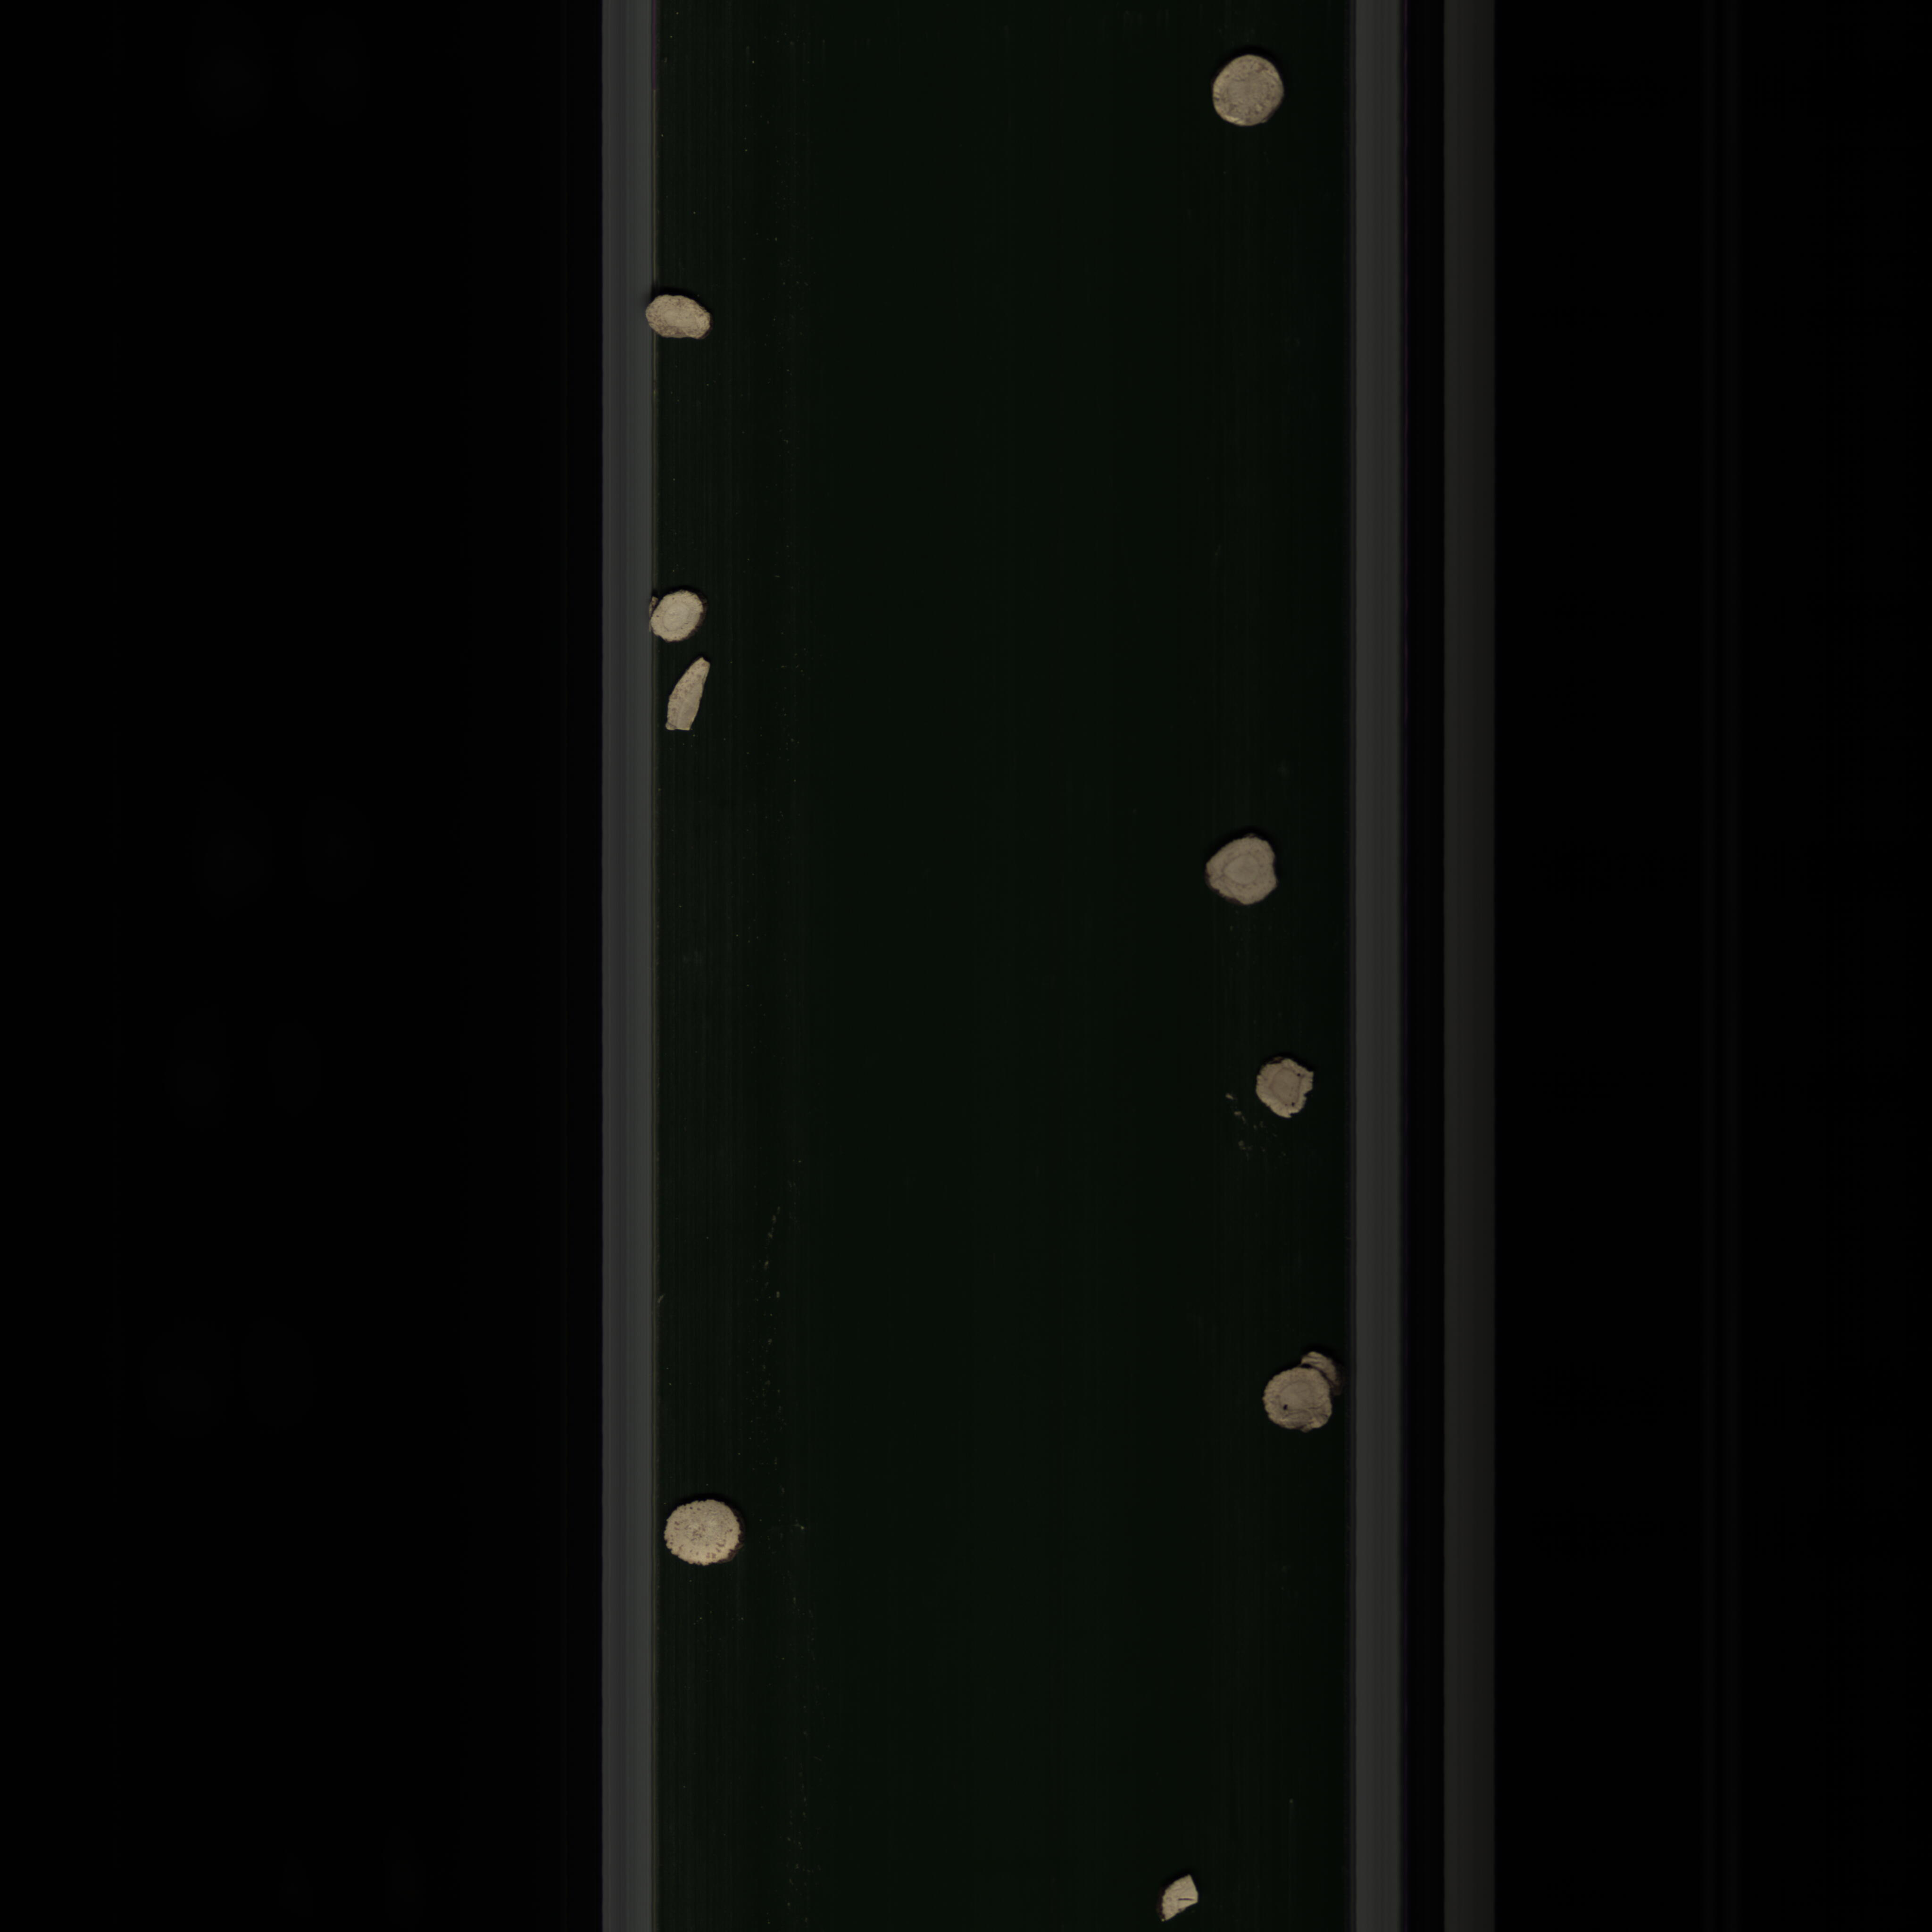debris: (662, 649, 722, 747), (1159, 1867, 1203, 1928)
distortion: (1246, 1051, 1316, 1125)
hole: (1254, 1346, 1348, 1445)
